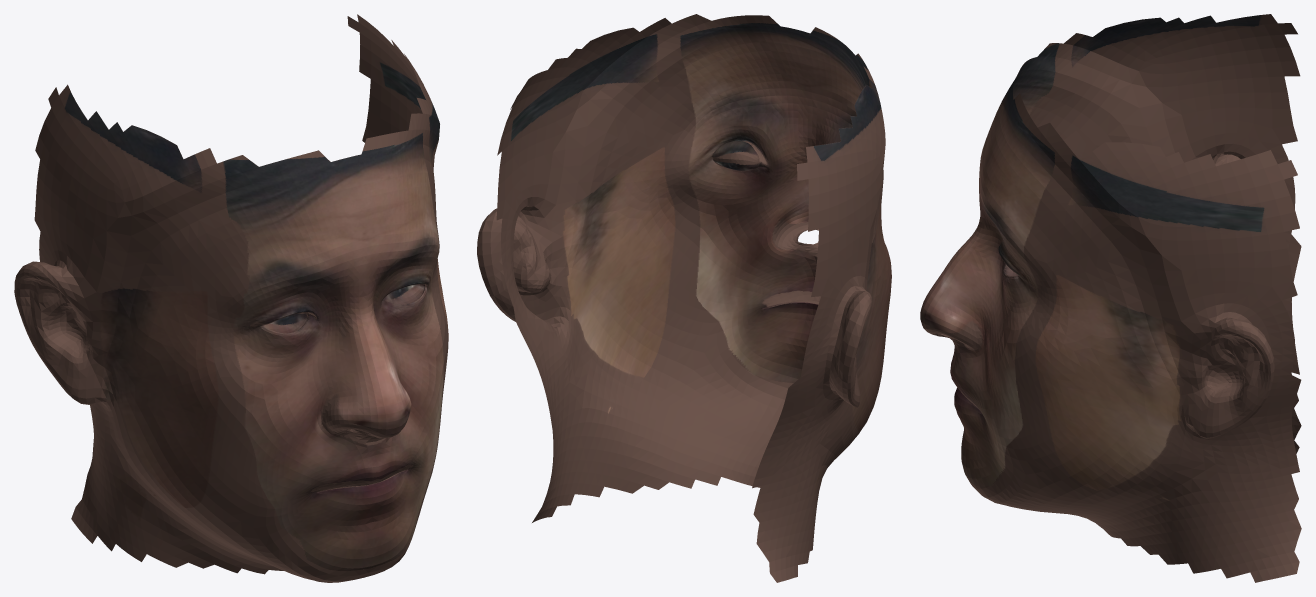
The model's file is baseline.glb.
3 renders of one model, left to right at view 1: azimuth 30°, elevation 25°; view 2: azimuth 150°, elevation 25°; view 3: azimuth 270°, elevation 25°, orthographic. The views are drawn at different scales.
Parts seen in each view (by area): view 1: geometry_0; view 2: geometry_0; view 3: geometry_0.
Boxes of the visible parts, box(x1,y1,x2,y2) form: geometry_0: box(14, 14, 448, 582); geometry_0: box(477, 14, 891, 582); geometry_0: box(920, 14, 1301, 582).
Bounding box in the file's own units: 0.1828 × 0.2 × 0.1567.
Materials: 1 (1 with a texture image).
